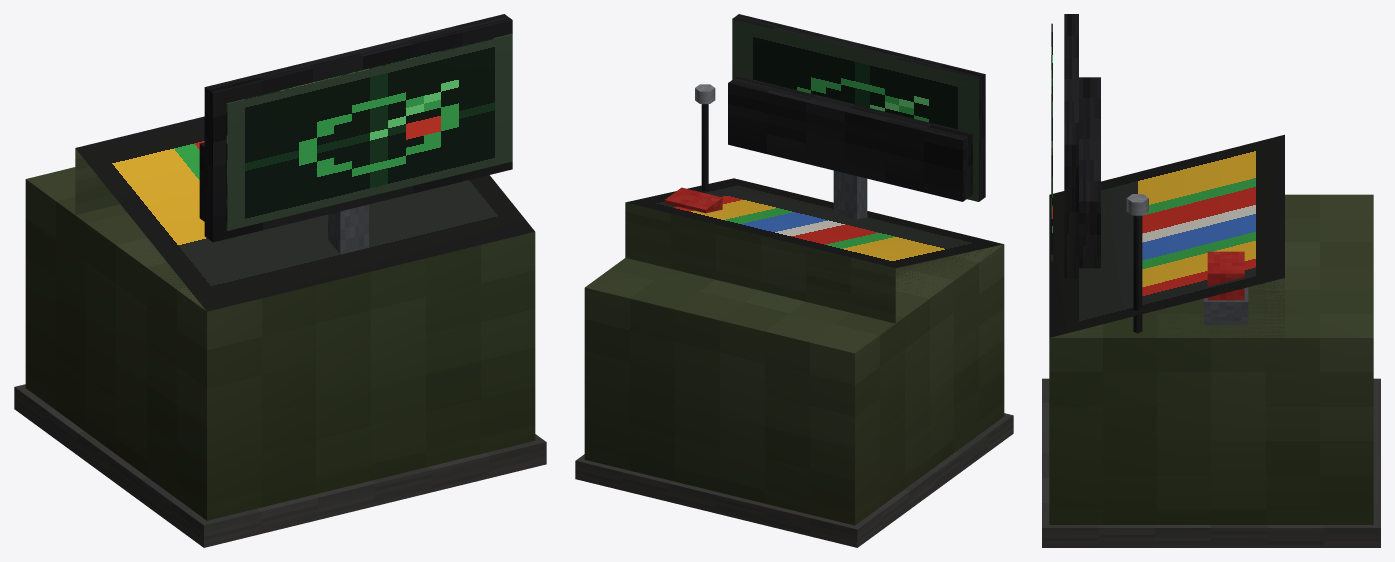
Rendered from launch_computer.glb.
The picture shows the model from 3 angles, left to right: view 1: azimuth 30°, elevation 25°; view 2: azimuth 150°, elevation 25°; view 3: azimuth 270°, elevation 25°; orthographic projection. The views are drawn at different scales.
Parts seen in each view (by area): view 1: root; view 2: root; view 3: root.
Boxes of the visible parts, x1,y1,x2,y2 form: root: (14,14,546,547); root: (575,14,1013,547); root: (1042,14,1380,547).
Size of the model in its own units: 0.96 by 1.18 by 0.92.
1 material, 1 textured.
